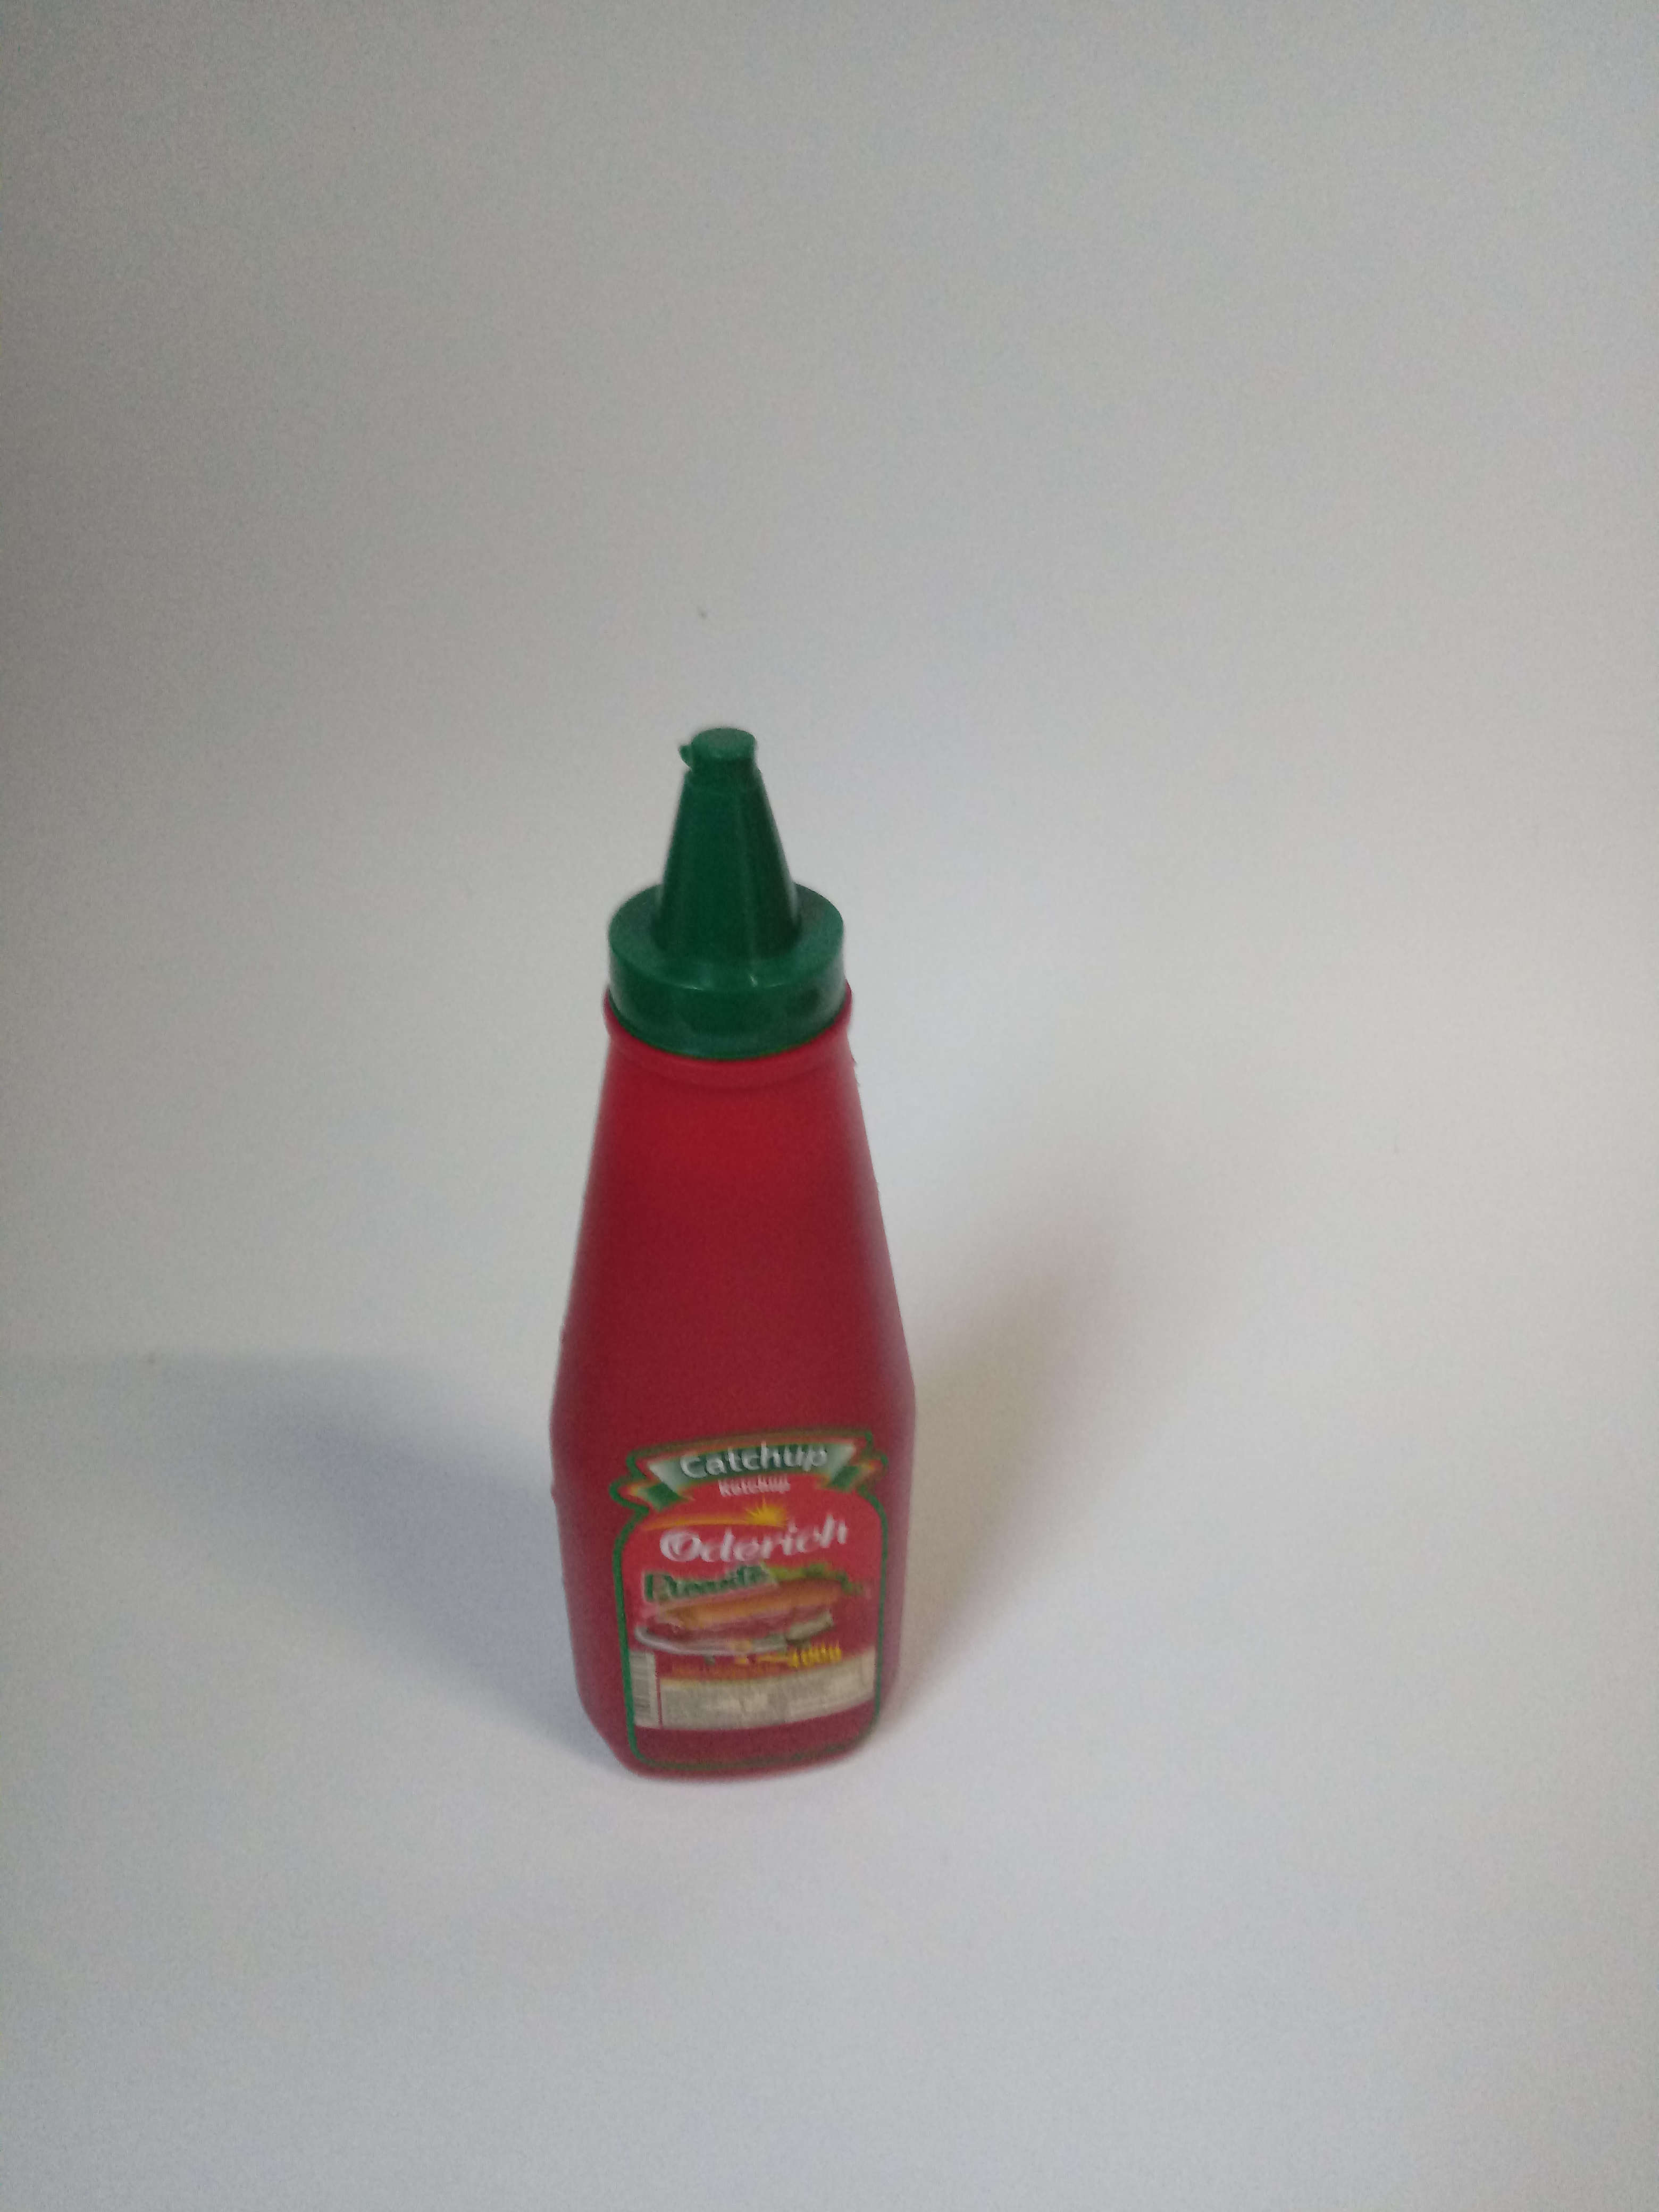catchup-oderich: (544, 711, 913, 1785)
